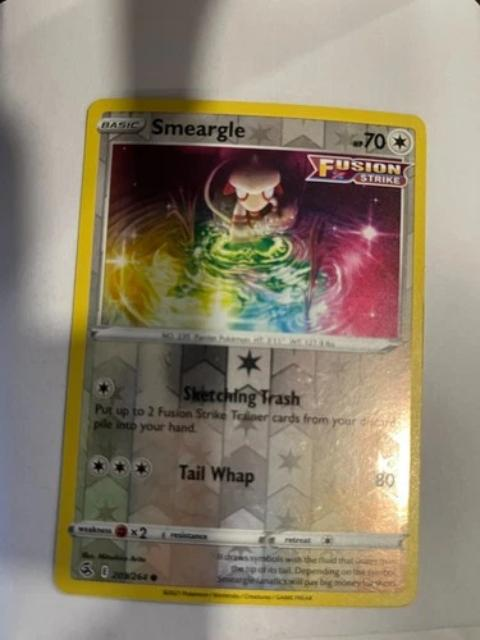Card: (47, 90, 431, 611)
Name: (145, 114, 247, 142)
